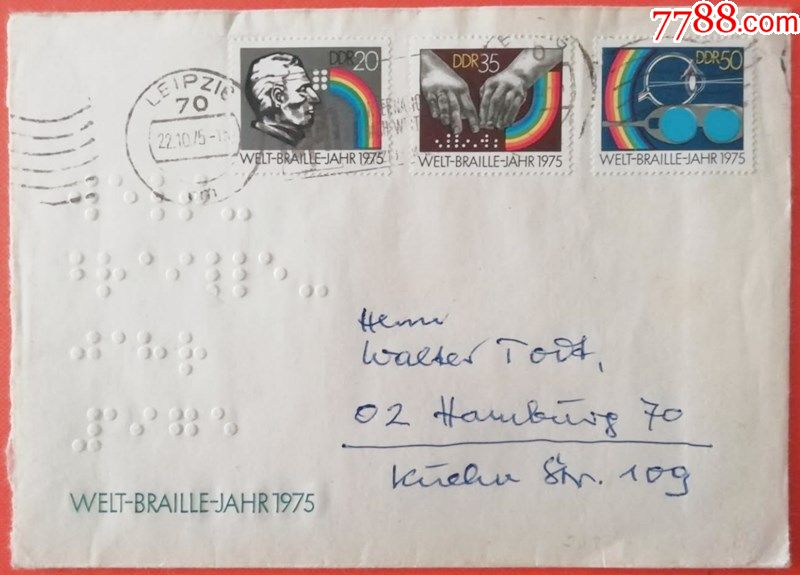Braille: (69, 326, 101, 378), (220, 174, 252, 224), (169, 406, 199, 458), (70, 405, 101, 455), (164, 249, 193, 302), (299, 251, 330, 300), (150, 171, 179, 223), (211, 406, 239, 459), (108, 173, 137, 224), (180, 173, 209, 224), (103, 405, 131, 457), (70, 173, 98, 224), (138, 331, 167, 380), (179, 331, 209, 378), (98, 251, 126, 301), (138, 249, 165, 300), (205, 249, 232, 300), (232, 249, 259, 300), (131, 405, 157, 457), (101, 328, 126, 378), (260, 251, 286, 299), (71, 251, 97, 298), (313, 67, 328, 92), (434, 133, 444, 149), (462, 133, 471, 150), (461, 133, 470, 150), (445, 133, 454, 149), (472, 133, 481, 149), (482, 133, 490, 151), (480, 134, 489, 149), (490, 134, 498, 150), (462, 133, 470, 149), (470, 133, 478, 149), (455, 132, 462, 150)
